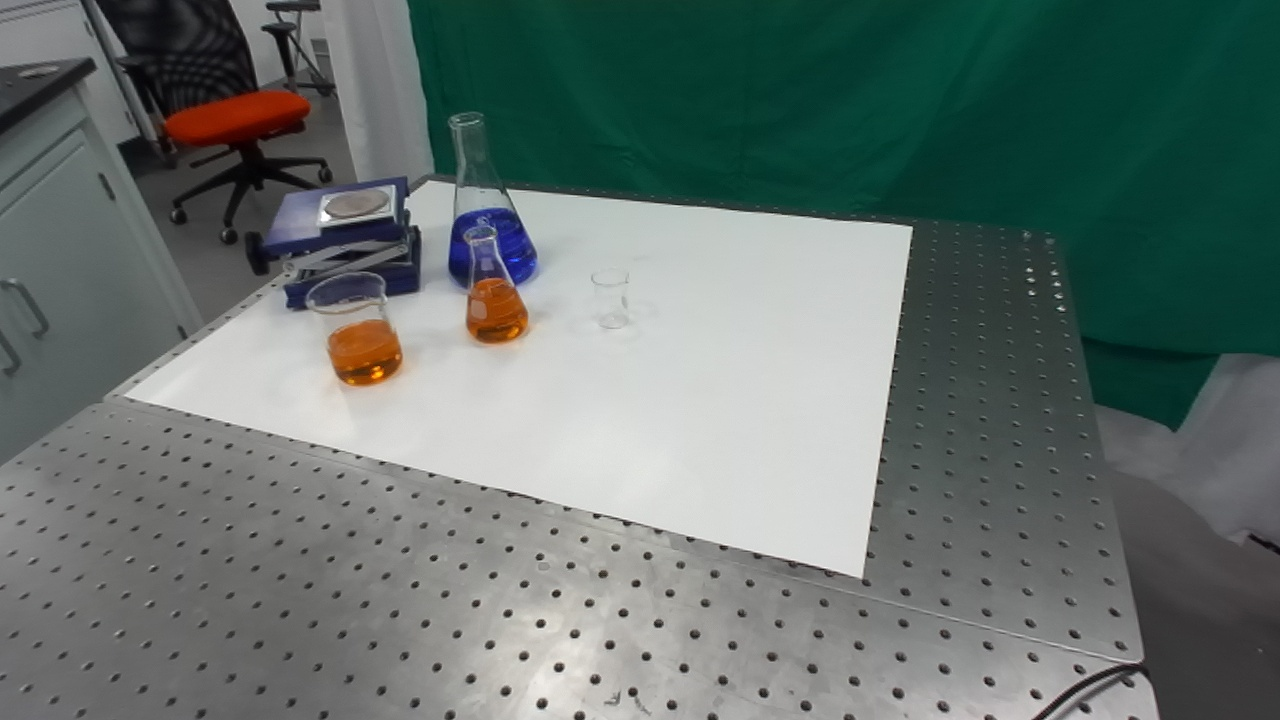glass: (442, 107, 540, 291), (303, 270, 408, 391), (458, 222, 532, 347), (589, 265, 633, 334)
plate: (313, 182, 403, 236)
